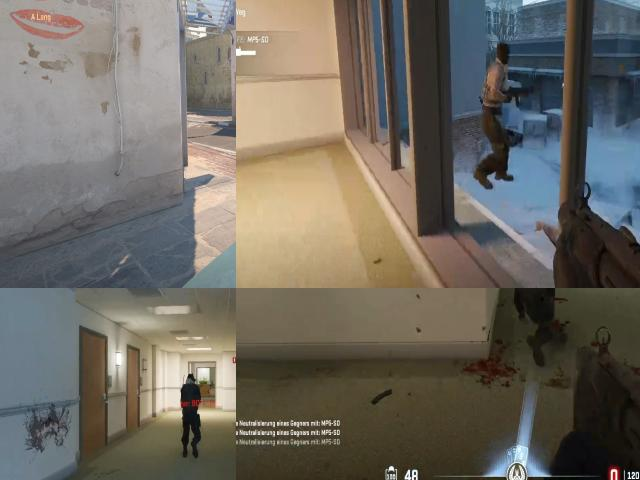CT: (175, 368, 204, 428)
CT-Head: (182, 372, 196, 390)
Dead: (512, 288, 557, 340)
T: (480, 63, 514, 137)
T-Head: (487, 41, 514, 72)
